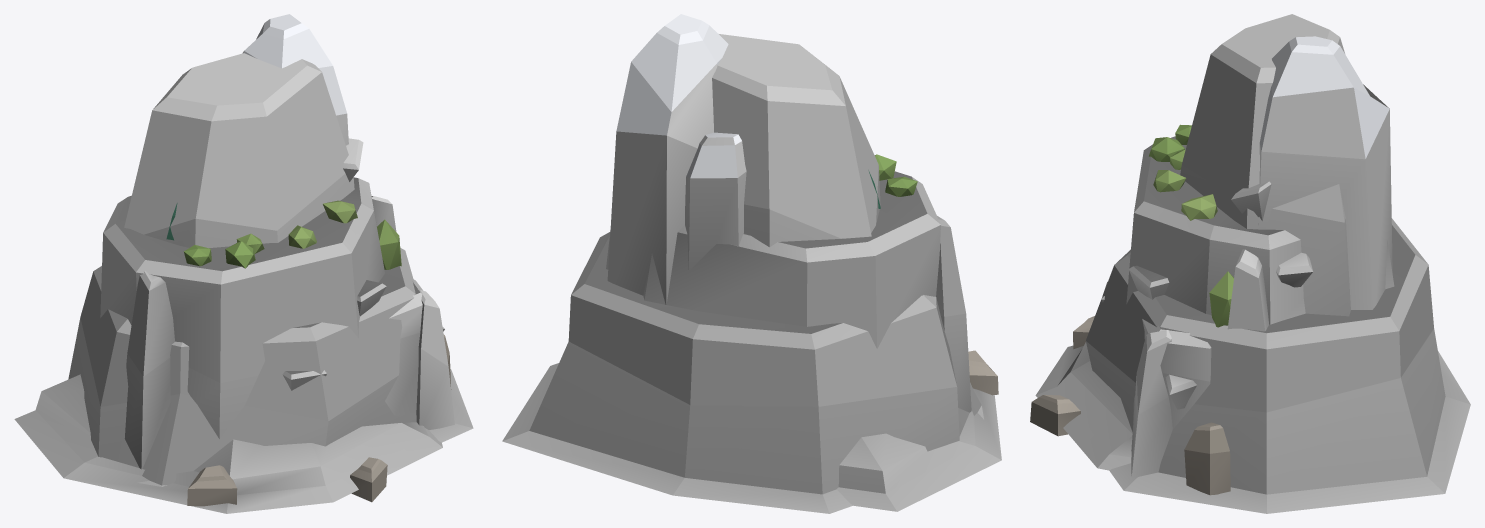
File: crag-3.glb
3 renders of one model, left to right at view 1: azimuth 30°, elevation 25°; view 2: azimuth 150°, elevation 25°; view 3: azimuth 270°, elevation 25°, orthographic. The views are drawn at different scales.
Parts seen in each view (by area): view 1: SaddleBlock, SaddleBase, CragTable, CragBase, CragRib1, CragRib3, CragTower, CragStep, CragScree12, CragScree10, SaddleShrub1, CragShelf5 (+4 smaller); view 2: SaddleBase, SaddleBlock, CragTable, CragTower, CragBase, CragShoulder, CragRib1, CragScree12; view 3: SaddleBase, CragTower, SaddleBlock, CragTable, CragBase, CragRib3, CragStep, SaddleScree3, CragRib2, CragScree10, SaddleShrub1, CragShelf4 (+6 smaller).
Part boxes in pixels (x1=…): SaddleBlock: x1=124, y1=53, x2=354, y2=248; SaddleBase: x1=68, y1=248, x2=473, y2=486; CragTable: x1=100, y1=177, x2=384, y2=438; CragBase: x1=14, y1=374, x2=442, y2=513; CragRib1: x1=124, y1=271, x2=174, y2=469; CragRib3: x1=416, y1=289, x2=454, y2=429; CragTower: x1=242, y1=14, x2=348, y2=145; CragStep: x1=385, y1=279, x2=422, y2=416; CragScree12: x1=187, y1=465, x2=237, y2=506; CragScree10: x1=350, y1=457, x2=387, y2=502; SaddleShrub1: x1=377, y1=219, x2=401, y2=269; CragShelf5: x1=357, y1=280, x2=386, y2=316; SaddleBase: x1=502, y1=232, x2=983, y2=513; SaddleBlock: x1=606, y1=34, x2=880, y2=269; CragTable: x1=643, y1=171, x2=940, y2=348; CragTower: x1=607, y1=14, x2=728, y2=304; CragBase: x1=836, y1=382, x2=1001, y2=511; CragShoulder: x1=685, y1=132, x2=746, y2=270; CragRib1: x1=936, y1=216, x2=971, y2=412; CragScree12: x1=968, y1=350, x2=998, y2=395; SaddleBase: x1=1086, y1=218, x2=1470, y2=513; CragTower: x1=1258, y1=36, x2=1392, y2=309; SaddleBlock: x1=1180, y1=14, x2=1350, y2=316; CragTable: x1=1126, y1=136, x2=1394, y2=324; CragBase: x1=1035, y1=342, x2=1132, y2=470; CragRib3: x1=1131, y1=330, x2=1172, y2=477; CragStep: x1=1133, y1=319, x2=1211, y2=429; SaddleScree3: x1=1184, y1=422, x2=1230, y2=495; CragRib2: x1=1227, y1=249, x2=1268, y2=331; CragScree10: x1=1030, y1=395, x2=1080, y2=436; SaddleShrub1: x1=1209, y1=271, x2=1233, y2=327; CragShelf4: x1=1231, y1=181, x2=1271, y2=221.
Size of the model in its own units: 1.82 by 1.62 by 1.59.
